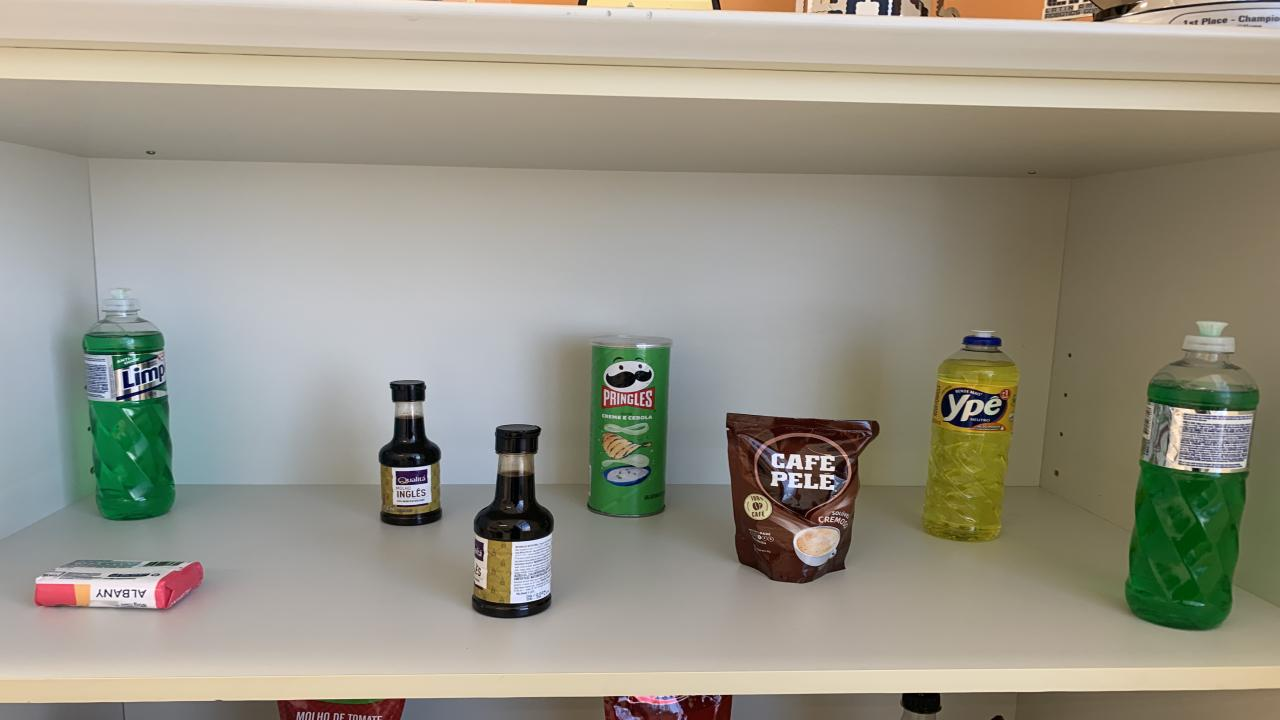Coffee-Pantry_Items: (728, 412, 880, 583)
Detergent-Cleanup_Items: (1125, 322, 1260, 630), (82, 289, 175, 519), (922, 330, 1020, 542)
English_Sauce-Pantry_Items: (472, 426, 552, 617), (378, 381, 442, 525)
Pringles-Snacks: (588, 336, 672, 518)
Soap-Cleanup_Items: (35, 559, 202, 609)
Tomato_Sauce-Pantry_Items: (602, 696, 732, 720), (278, 699, 405, 720)
